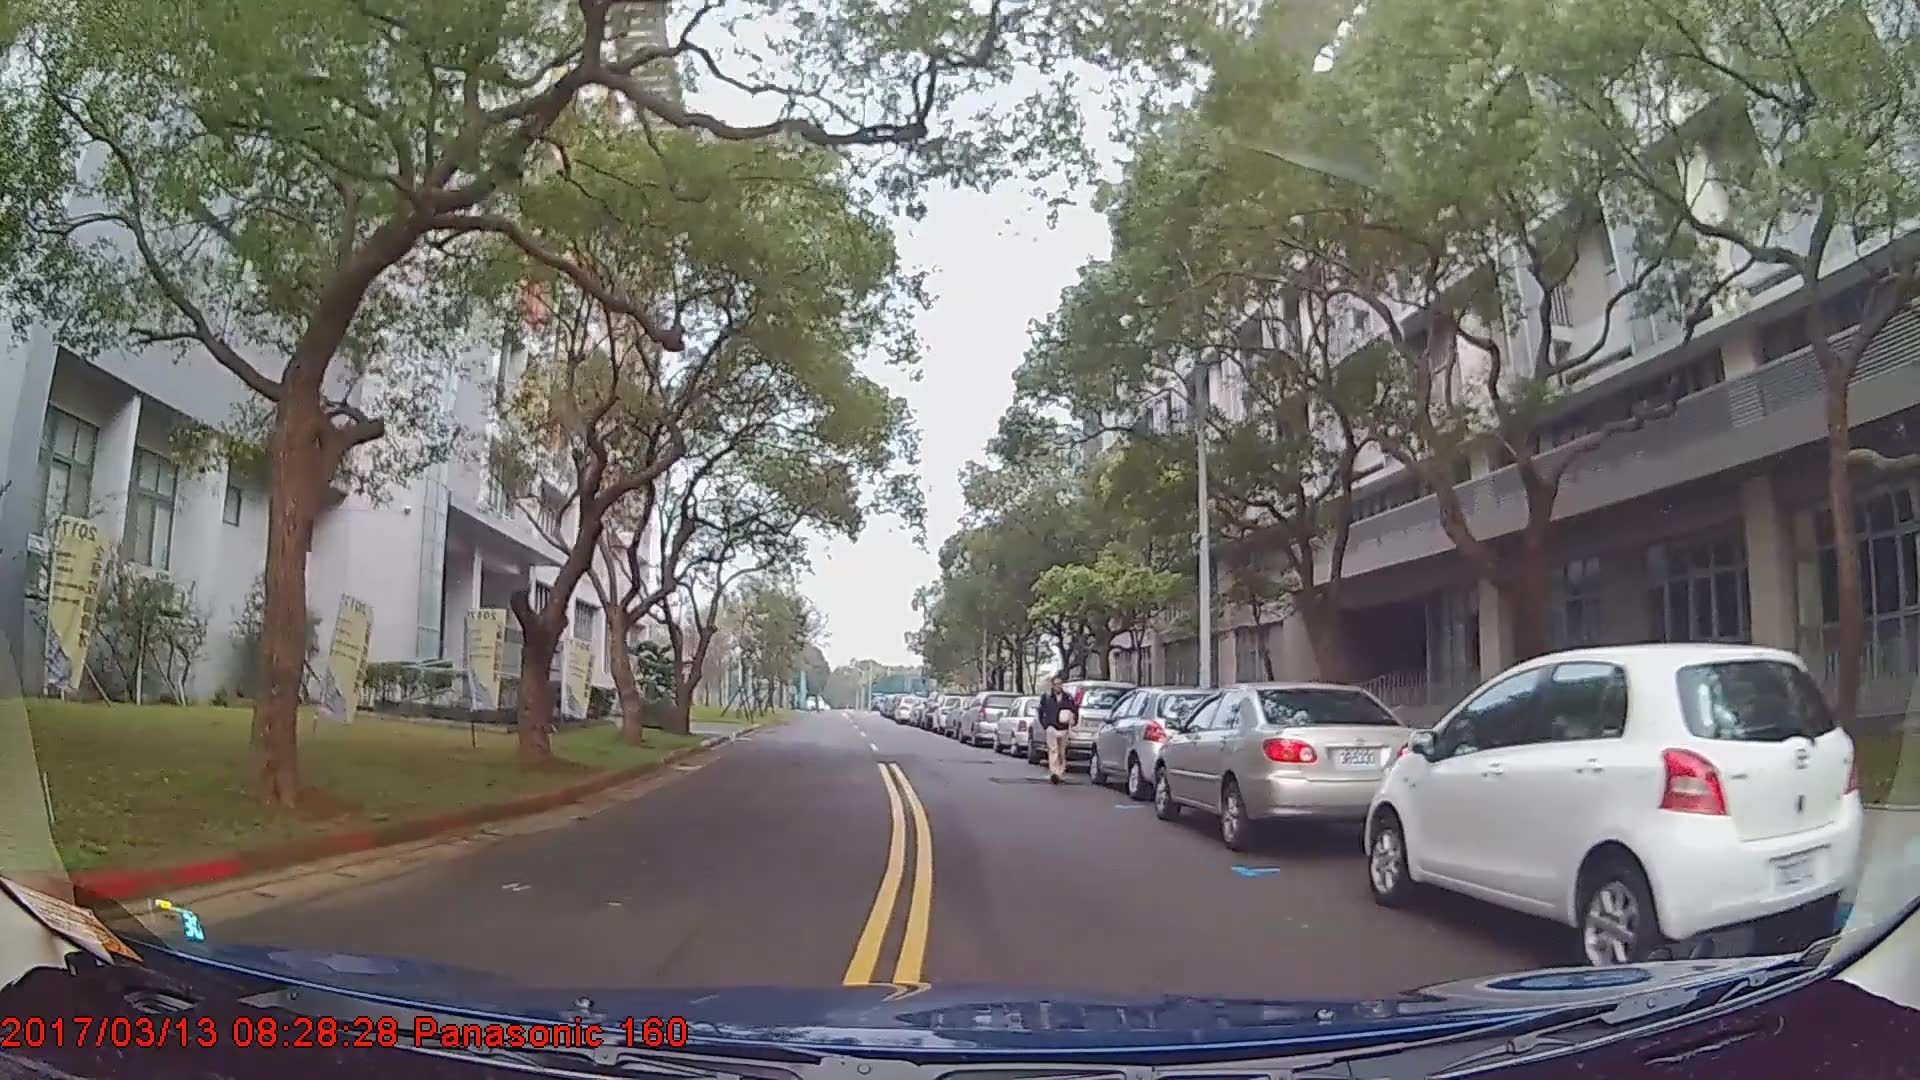pedestrian: (1040, 676, 1080, 787)
vehicle: (1362, 638, 1866, 970), (1152, 678, 1429, 849), (1089, 684, 1235, 799), (1024, 678, 1140, 774), (992, 692, 1061, 757), (957, 688, 1025, 745)
